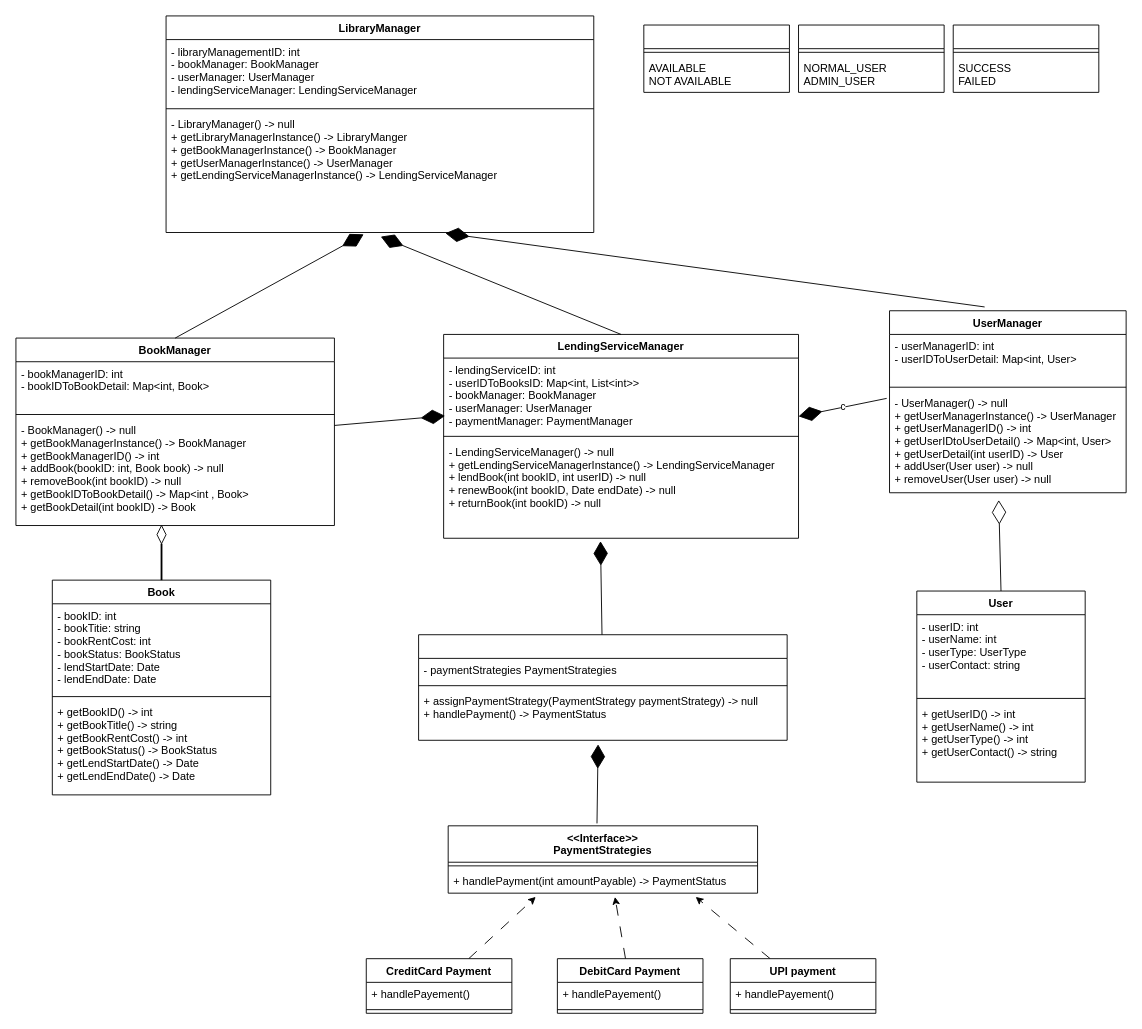
The diagram is 1142 pixels wide and 1029 high, and some of its shapes have lost their labels. The shapes that lost their labels are listed below. From the top down, each one's box as (x1, y1, x2, y2) in pixels, then its label:
(643, 24, 789, 92): BookStatus
(798, 24, 944, 92): UserType
(952, 24, 1099, 92): PaymentStatus
(418, 634, 787, 740): PaymentManager
